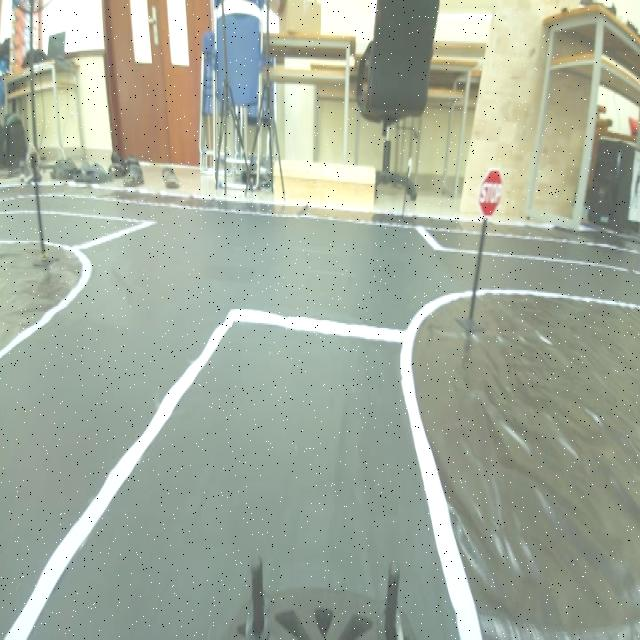stop: (476, 162, 504, 220)
